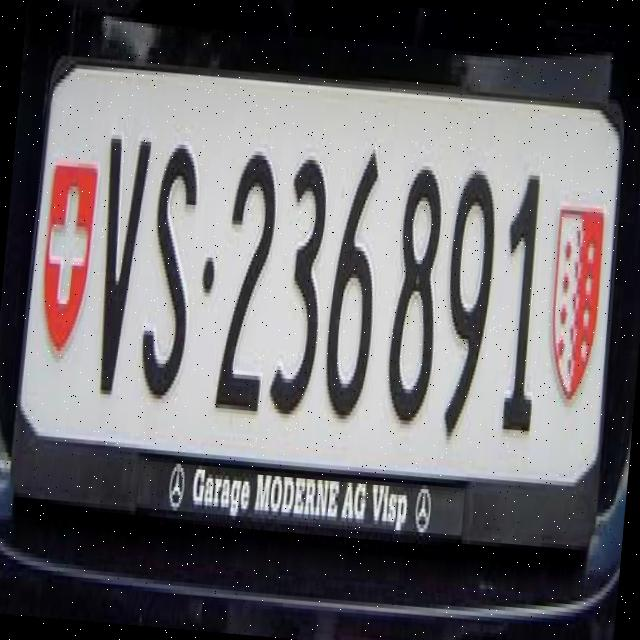Autre: (21, 50, 622, 473)
